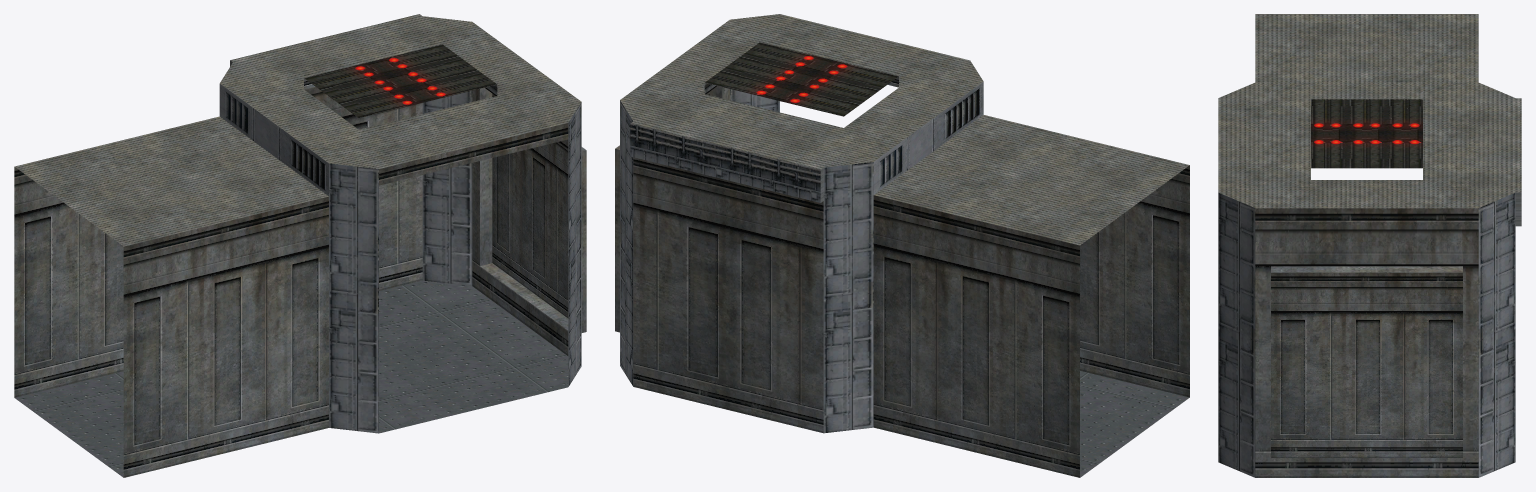
The model's file is poi_all_impl_bunker_abandoned_s01_r3_hall2_mesh_r3.fbx.
3 renders of one model, left to right at view 1: azimuth 30°, elevation 25°; view 2: azimuth 150°, elevation 25°; view 3: azimuth 270°, elevation 25°, orthographic. The views are drawn at different scales.
Visible parts, largest first — view 1: mesh_node; view 2: mesh_node; view 3: mesh_node.
Part boxes in pixels (x1,y1,x2,y2): mesh_node: (14, 14, 586, 477); mesh_node: (615, 14, 1189, 477); mesh_node: (1218, 14, 1521, 477).
Size of the model in its own units: 7.45 by 4.17 by 4.08.
